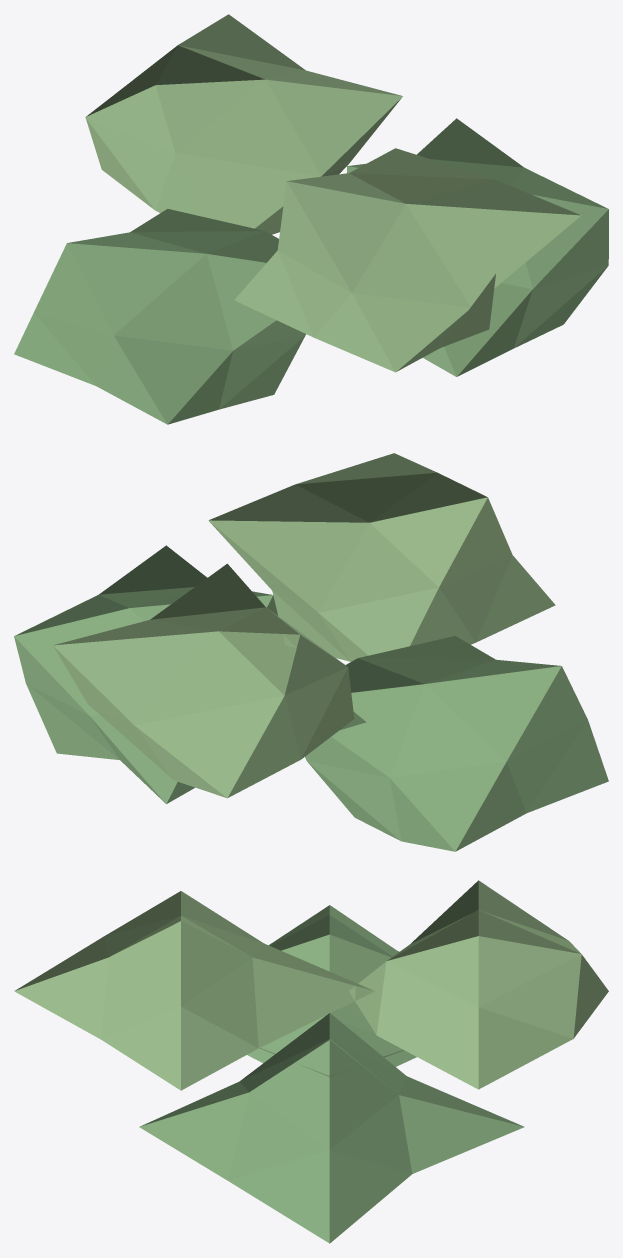
Rendered from shrub_v38.glb.
The picture shows the model from 3 angles, top to bottom: view 1: azimuth 30°, elevation 25°; view 2: azimuth 150°, elevation 25°; view 3: azimuth 270°, elevation 25°; orthographic projection. The views are drawn at different scales.
Visible parts, largest first — view 1: lod0; view 2: lod0; view 3: lod0.
Boxes of the visible parts, x1=… form: lod0: x1=14, y1=14, x2=608, y2=424; lod0: x1=14, y1=453, x2=608, y2=851; lod0: x1=14, y1=880, x2=608, y2=1243.
Size of what is drawn, in the model's own units: 1.52 by 0.8249 by 1.48.
